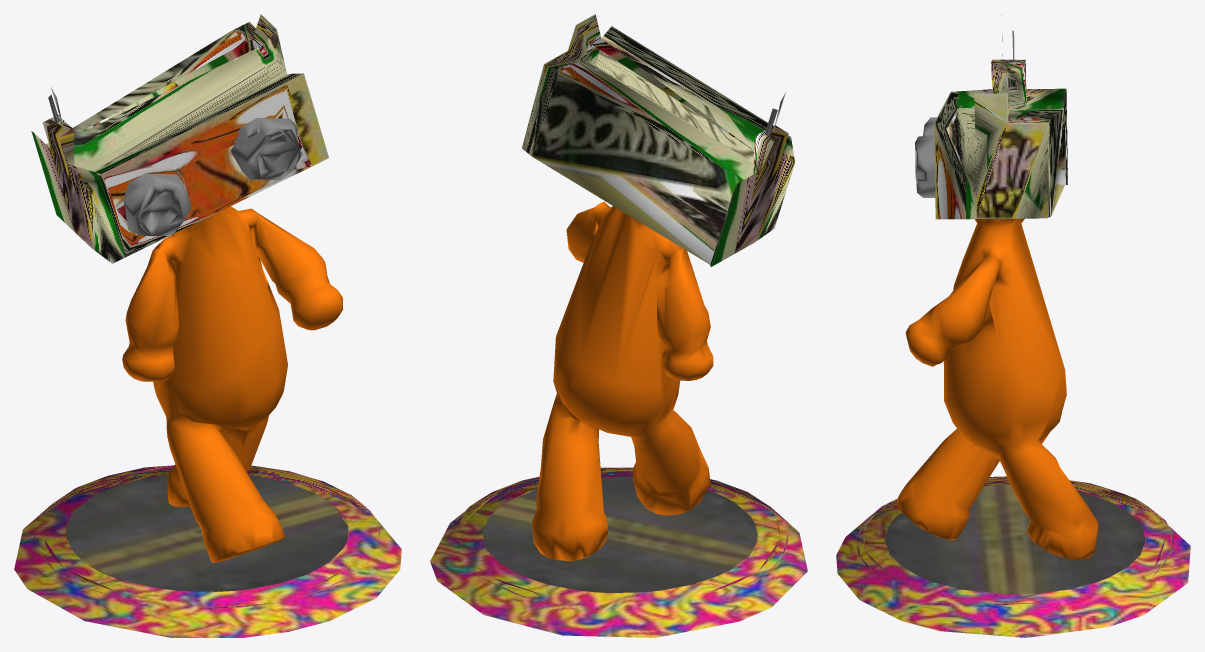
The picture shows the model from 3 angles, left to right: view 1: azimuth 30°, elevation 25°; view 2: azimuth 150°, elevation 25°; view 3: azimuth 270°, elevation 25°; orthographic projection. The views are drawn at different scales.
Bounding box in the file's own units: 1.44 × 2.18 × 1.43.
Materials: 5 (3 with a texture image).
